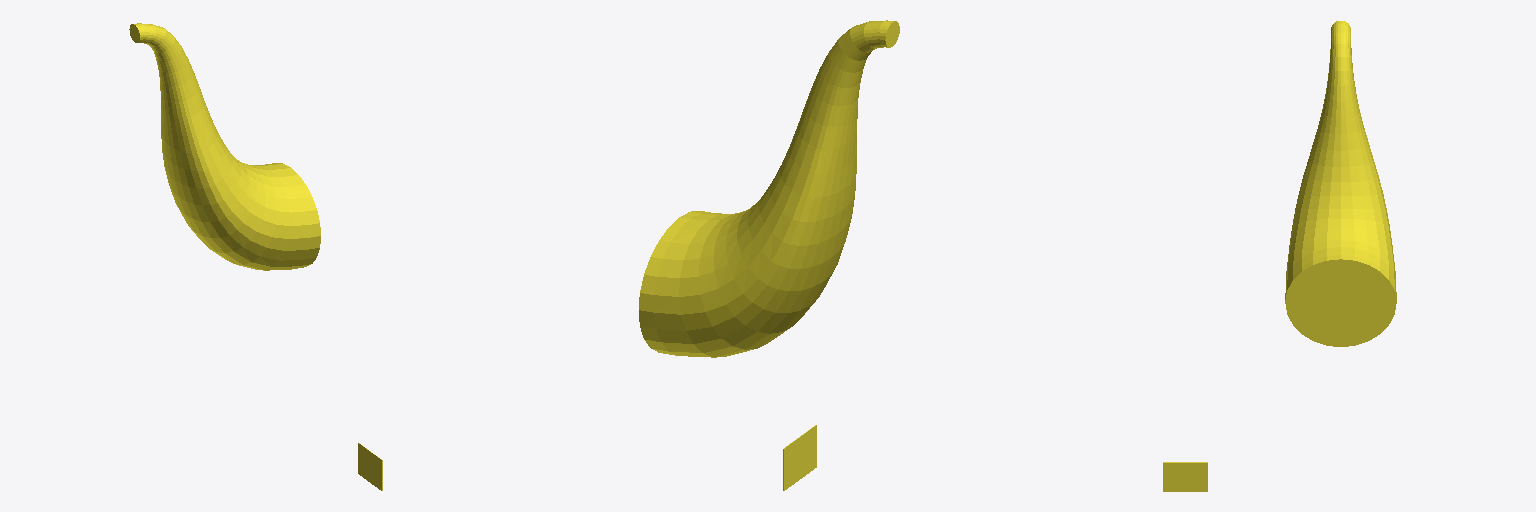
URDF robot description (partnet_009f75cf-8c87-4eaf-b7ff-c0e59a5bad3f):
<?xml version="1.0" ?>
<robot name="partnet_009f75cf-8c87-4eaf-b7ff-c0e59a5bad3f">
	<link name="base"/>
	<link name="link_0">
		<visual name="switch-1">
			<origin xyz="0 0 0"/>
			<geometry>
				<mesh filename="textured_objs/original-12.obj"/>
			</geometry>
		</visual>
		<visual name="switch-1">
			<origin xyz="0 0 0"/>
			<geometry>
				<mesh filename="textured_objs/original-11.obj"/>
			</geometry>
		</visual>
		<collision>
			<origin xyz="0 0 0"/>
			<geometry>
				<mesh filename="textured_objs/original-12.obj"/>
			</geometry>
		</collision>
		<collision>
			<origin xyz="0 0 0"/>
			<geometry>
				<mesh filename="textured_objs/original-11.obj"/>
			</geometry>
		</collision>
	</link>
	<joint name="joint_0" type="prismatic">
		<origin xyz="0 0 0"/>
		<axis xyz="0 0 -1"/>
		<child link="link_0"/>
		<parent link="link_2"/>
		<limit lower="-0.06400000000000006" upper="0.03200000000000003"/>
	</joint>
	<link name="link_1">
		<visual name="switch-2">
			<origin xyz="0 0 0"/>
			<geometry>
				<mesh filename="textured_objs/original-9.obj"/>
			</geometry>
		</visual>
		<collision>
			<origin xyz="0 0 0"/>
			<geometry>
				<mesh filename="textured_objs/original-9.obj"/>
			</geometry>
		</collision>
	</link>
	<joint name="joint_1" type="prismatic">
		<origin xyz="0 0 0"/>
		<axis xyz="0 0 -1"/>
		<child link="link_1"/>
		<parent link="link_2"/>
		<limit lower="-0.008000000000000007" upper="0.008000000000000007"/>
	</joint>
	<link name="link_2">
		<visual name="base_body-3">
			<origin xyz="0 0 0"/>
			<geometry>
				<mesh filename="textured_objs/original-4.obj"/>
			</geometry>
		</visual>
		<visual name="base_body-3">
			<origin xyz="0 0 0"/>
			<geometry>
				<mesh filename="textured_objs/original-3.obj"/>
			</geometry>
		</visual>
		<visual name="base_body-3">
			<origin xyz="0 0 0"/>
			<geometry>
				<mesh filename="textured_objs/original-2.obj"/>
			</geometry>
		</visual>
		<visual name="base_body-3">
			<origin xyz="0 0 0"/>
			<geometry>
				<mesh filename="textured_objs/original-8.obj"/>
			</geometry>
		</visual>
		<visual name="base_body-3">
			<origin xyz="0 0 0"/>
			<geometry>
				<mesh filename="textured_objs/original-5.obj"/>
			</geometry>
		</visual>
		<visual name="base_body-3">
			<origin xyz="0 0 0"/>
			<geometry>
				<mesh filename="textured_objs/original-6.obj"/>
			</geometry>
		</visual>
		<visual name="base_body-3">
			<origin xyz="0 0 0"/>
			<geometry>
				<mesh filename="textured_objs/original-1.obj"/>
			</geometry>
		</visual>
		<collision>
			<origin xyz="0 0 0"/>
			<geometry>
				<mesh filename="textured_objs/original-4.obj"/>
			</geometry>
		</collision>
		<collision>
			<origin xyz="0 0 0"/>
			<geometry>
				<mesh filename="textured_objs/original-3.obj"/>
			</geometry>
		</collision>
		<collision>
			<origin xyz="0 0 0"/>
			<geometry>
				<mesh filename="textured_objs/original-2.obj"/>
			</geometry>
		</collision>
		<collision>
			<origin xyz="0 0 0"/>
			<geometry>
				<mesh filename="textured_objs/original-8.obj"/>
			</geometry>
		</collision>
		<collision>
			<origin xyz="0 0 0"/>
			<geometry>
				<mesh filename="textured_objs/original-5.obj"/>
			</geometry>
		</collision>
		<collision>
			<origin xyz="0 0 0"/>
			<geometry>
				<mesh filename="textured_objs/original-6.obj"/>
			</geometry>
		</collision>
		<collision>
			<origin xyz="0 0 0"/>
			<geometry>
				<mesh filename="textured_objs/original-1.obj"/>
			</geometry>
		</collision>
	</link>
	<joint name="joint_2" type="fixed">
		<origin rpy="1.570796326794897 0 -1.570796326794897" xyz="0 0 0"/>
		<child link="link_2"/>
		<parent link="base"/>
	</joint>
</robot>

--- Facts derived from the render (not from the file) ---
Views: 3 orthographic renders of the robot side by side, from view 1: azimuth 30°, elevation 25°; view 2: azimuth 150°, elevation 25°; view 3: azimuth 270°, elevation 25°.
Model partnet_009f75cf-8c87-4eaf-b7ff-c0e59a5bad3f with 4 links and 3 joints (2 prismatic, 1 fixed), rooted at base, posed all joints at 0.
Links seen in each view (by area): view 1: link_2; view 2: link_2; view 3: link_2.
Link boxes in pixels (<box>): link_2: <box>129,23,382,490</box>; link_2: <box>639,20,899,490</box>; link_2: <box>1163,21,1396,491</box>.
Bounding box of the posed robot: 0.4922 × 0.5875 × 1.12 m (x, y, z).
3 mesh visuals loaded from 10 distinct referenced files (3 OBJ); not drawn: 7 (reference not matched to a file when rendering).